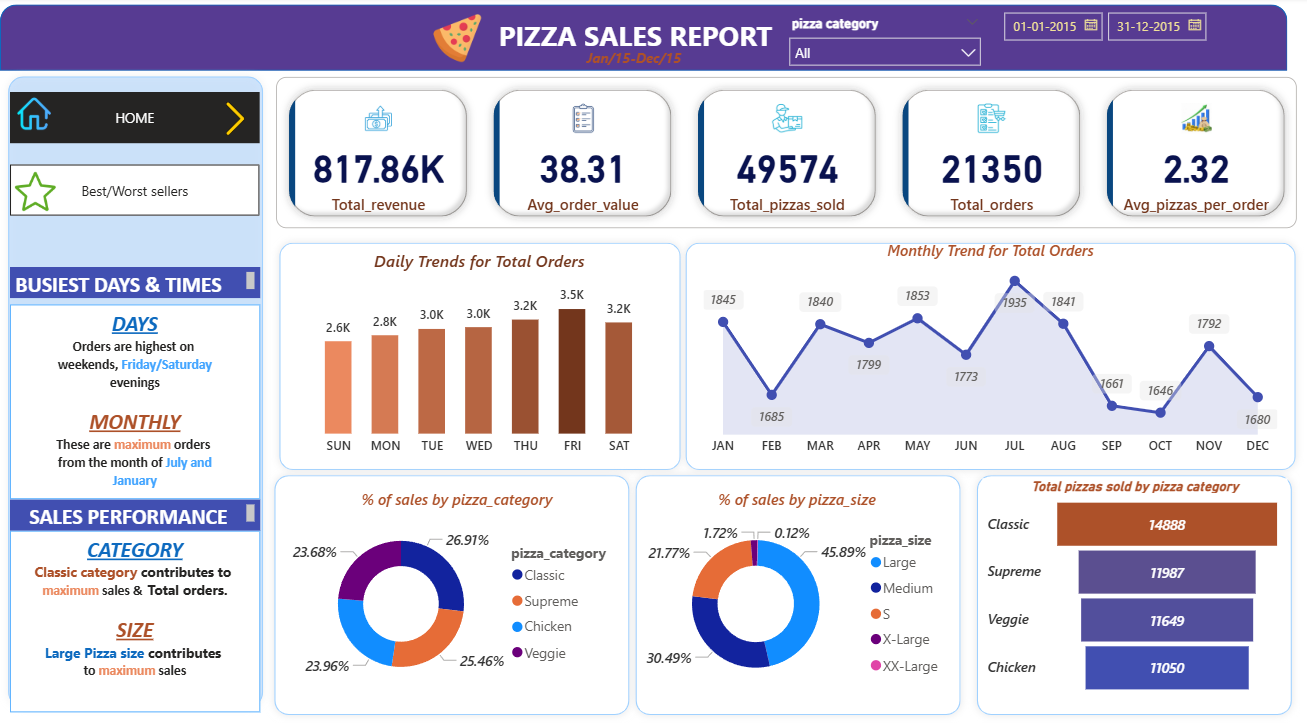

Layout of this report page (visuals, bound fields, positions):
{"tool":"powerbi","page":{"name":"HOME","canvas":[1280,720],"ordinal":0},"visuals":[{"type":"shape","box":[265.4,232.3,408.4,238.5],"z":0},{"type":"columnChart","title":"Daily Trends for Total Orders","fields":{"Category":["pizza_sales.Order Day"],"Y":["pizza_sales.Total_orders"]},"box":[294.7,247,348.5,210.3],"z":1000},{"type":"cardVisual","fields":{"Data":["pizza_sales.Total_revenue","pizza_sales.Avg_order_value","pizza_sales.Total_pizzas_sold","pizza_sales.Total_orders","pizza_sales.Avg_pizzas_per_order"]},"box":[265.4,73.4,1010.1,159],"z":2000},{"type":"shape","box":[0,7.3,1259.5,64.8],"z":3000},{"type":"textbox","box":[481.8,14.7,280,45.2],"z":4000},{"type":"textbox","box":[568.6,45.2,108.8,28.1],"z":5000},{"type":"image","box":[413.3,11,68.5,58.7],"z":6000},{"type":"shape","box":[662.8,232.3,612.6,238.5],"z":7000},{"type":"areaChart","title":"Monthly Trend for Total Orders","fields":{"Y":["pizza_sales.Total_orders"],"Category":["pizza_sales.Order Month"]},"box":[683.6,237.2,571.1,220.1],"z":8000},{"type":"shape","box":[0,69.7,265.4,633.4],"z":9000},{"type":"shape","box":[260.5,459.8,363.2,250.7],"z":10000},{"type":"shape","box":[613.9,459.8,333.8,250.7],"z":11000},{"type":"shape","box":[947.7,459.8,324.1,250.7],"z":12000},{"type":"donutChart","title":"% of  sales by pizza_category","fields":{"Category":["pizza_sales.pizza_category"],"Y":["pizza_sales.Total_revenue"]},"box":[280,480.6,333.8,206.7],"z":13000},{"type":"donutChart","title":"% of  sales by pizza_size","fields":{"Y":["pizza_sales.Total_revenue"],"Category":["pizza_sales.pizza_size"]},"box":[623.6,480.6,311.8,206.7],"z":14000},{"type":"funnel","title":"Total pizzas sold by pizza category","fields":{"Category":["pizza_sales.pizza_category"],"Y":["pizza_sales.Total_pizzas_sold"]},"box":[961.1,470.8,298.4,216.4],"z":15000},{"type":"textbox","box":[9.8,264.1,244.6,30.6],"z":16000},{"type":"textbox","box":[9.8,522.1,244.6,177.3],"z":17000},{"type":"textbox","box":[9.8,491.6,244.6,30.6],"z":18000},{"type":"textbox","box":[9.8,300.8,244.6,190.8],"z":19000},{"type":"slicer","fields":{"Values":["pizza_sales.pizza_category"]},"box":[761.8,13.5,207.9,58.7],"z":20000},{"type":"slicer","fields":{"Values":["pizza_sales.order_date"]},"box":[969.7,4.9,227.4,66],"z":21000},{"type":"pageNavigator","box":[9.8,92.9,244.6,50.1],"z":21001},{"type":"pageNavigator","box":[9.8,163.9,244.6,50.1],"z":21002},{"type":"image","box":[206.7,97.8,47.7,42.8],"z":21003},{"type":"image","box":[9.8,92.9,46.5,42.8],"z":21004},{"type":"image","box":[9.8,163.9,50.1,52.6],"z":21005}]}

Visuals, with their boxes in screenshot pixels (x1, y1, x2, y2), scaled from the page's 1280x720 canvas onto the 1307x725 screenshot:
shape: crop(271, 234, 688, 474)
"Daily Trends for Total Orders" columnChart: crop(301, 249, 657, 460)
cardVisual - pizza_sales.Total_revenue x pizza_sales.Avg_order_value: crop(271, 74, 1302, 234)
shape: crop(0, 7, 1286, 73)
textbox: crop(492, 15, 778, 60)
textbox: crop(581, 46, 692, 74)
image: crop(422, 11, 492, 70)
shape: crop(677, 234, 1302, 474)
"Monthly Trend for Total Orders" areaChart: crop(698, 239, 1281, 460)
shape: crop(0, 70, 271, 708)
shape: crop(266, 463, 637, 715)
shape: crop(627, 463, 968, 715)
shape: crop(968, 463, 1299, 715)
"% of  sales by pizza_category" donutChart: crop(286, 484, 627, 692)
"% of  sales by pizza_size" donutChart: crop(637, 484, 955, 692)
"Total pizzas sold by pizza category" funnel: crop(981, 474, 1286, 692)
textbox: crop(10, 266, 260, 297)
textbox: crop(10, 526, 260, 704)
textbox: crop(10, 495, 260, 526)
textbox: crop(10, 303, 260, 495)
slicer - pizza_sales.pizza_category: crop(778, 14, 990, 73)
slicer - pizza_sales.order_date: crop(990, 5, 1222, 71)
pageNavigator: crop(10, 94, 260, 144)
pageNavigator: crop(10, 165, 260, 215)
image: crop(211, 98, 260, 142)
image: crop(10, 94, 57, 137)
image: crop(10, 165, 61, 218)
